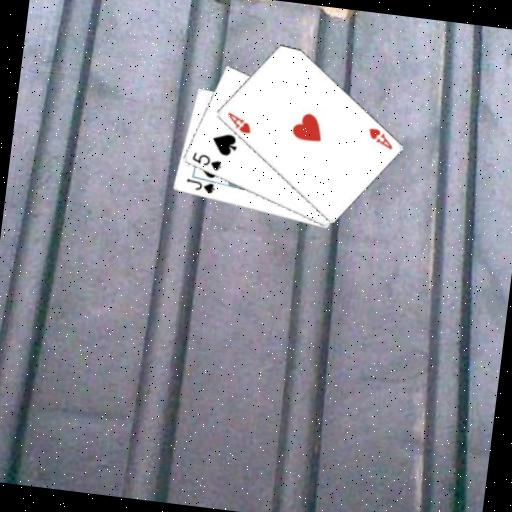5S: (187, 149, 223, 173)
AH: (222, 109, 255, 136), (364, 124, 397, 151)
JS: (182, 176, 217, 196)
